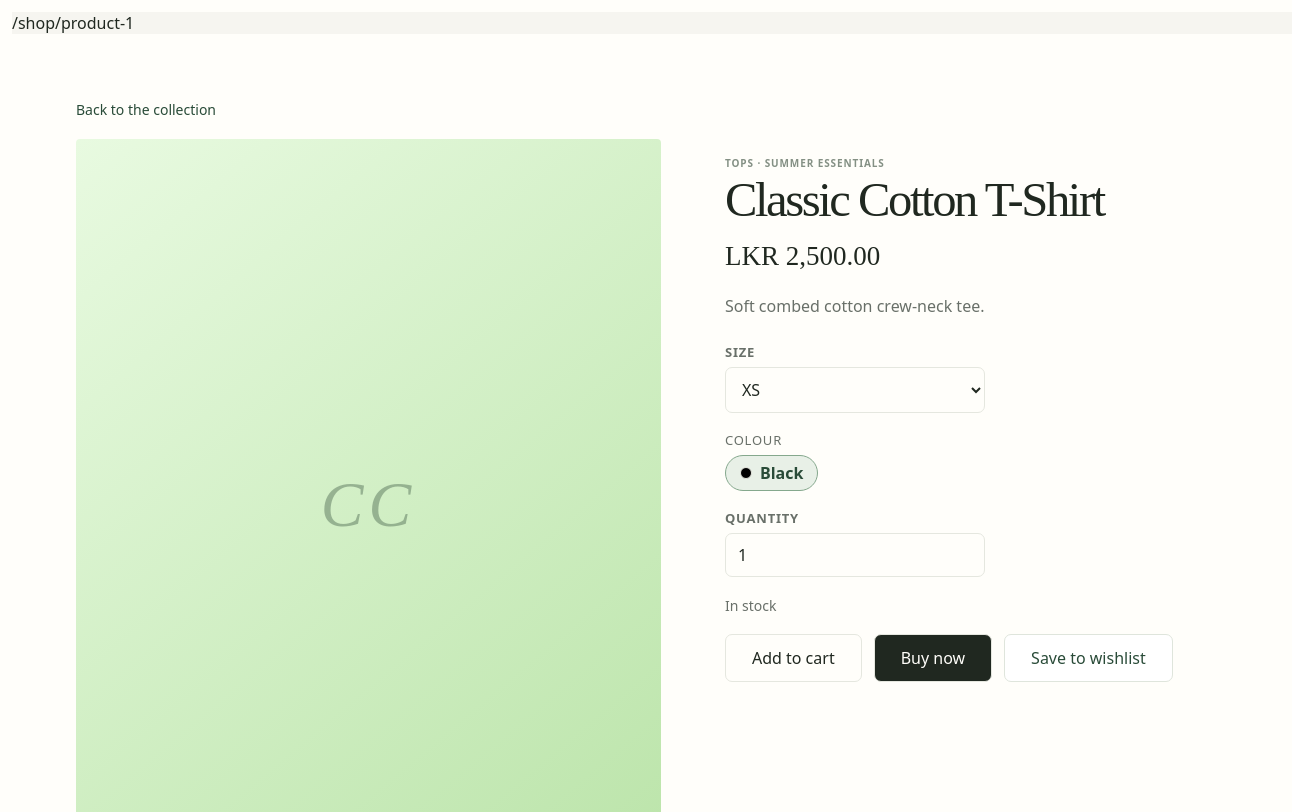
it: ProductDetailPage › adds the selected variant to the cart
Expected: the heading "Classic Cotton T-Shirt" is shown, [725,173,1104,227]
Click the button "Add to cart". click: (793, 658)
box: [725,634,862,682]
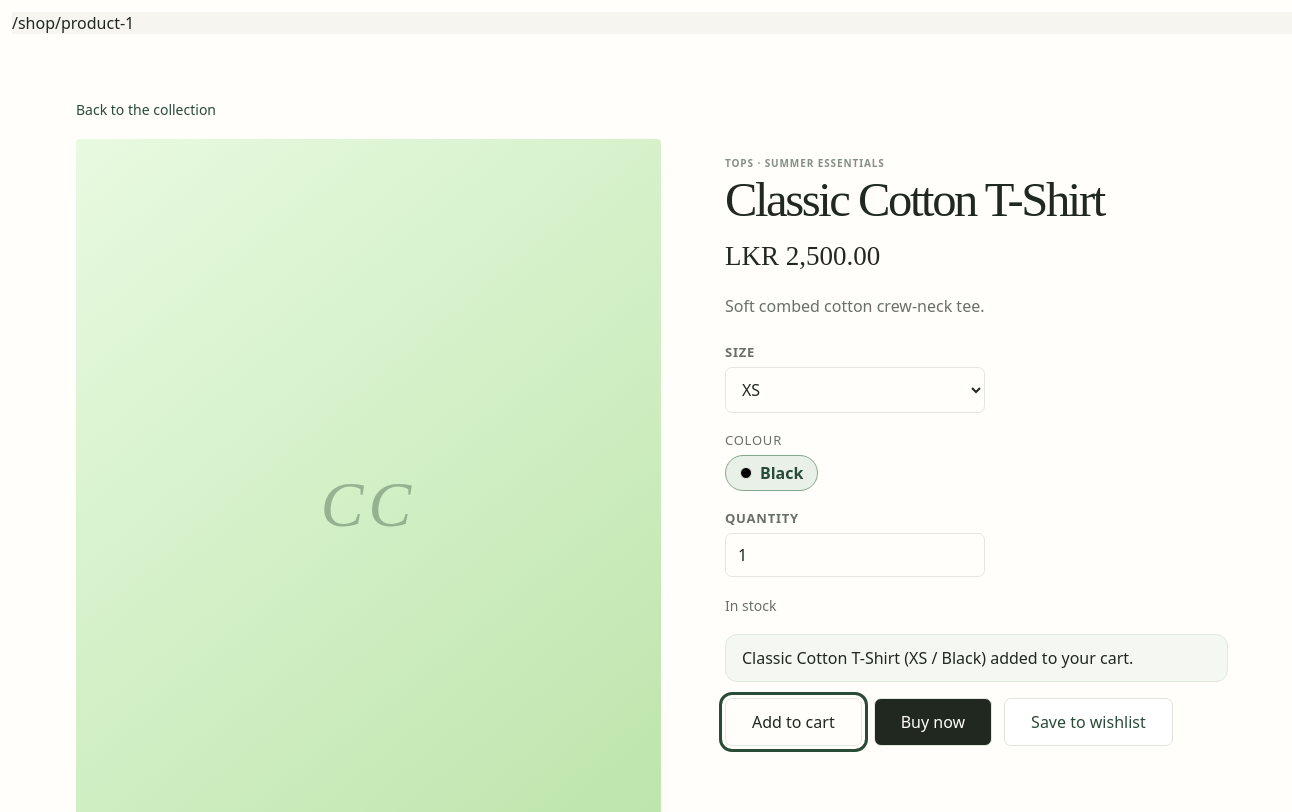
Expected: the message shows "added to your cart", [742,647,1133,669]
